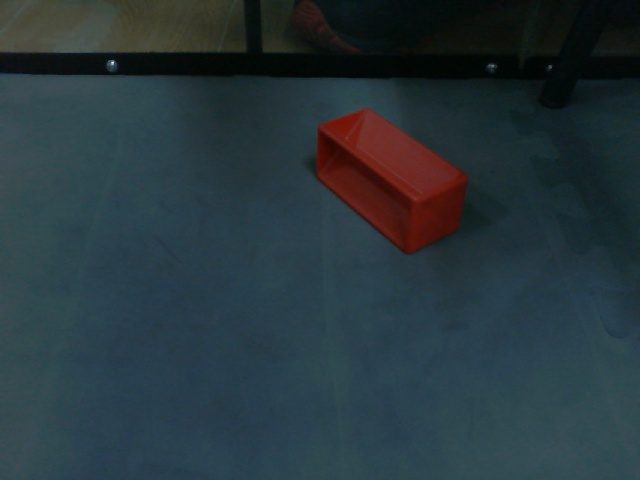RedSample: (313, 106, 469, 257)
